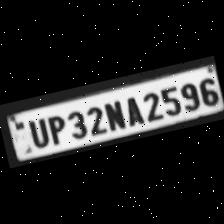2: (138, 88, 164, 124), (82, 102, 108, 136)
3: (62, 106, 89, 141)
5: (155, 83, 183, 119)
6: (194, 74, 221, 108)
9: (175, 78, 201, 113)
A: (119, 93, 145, 128)
N: (101, 96, 128, 132)
P: (42, 111, 69, 147)
U: (24, 115, 50, 150)
